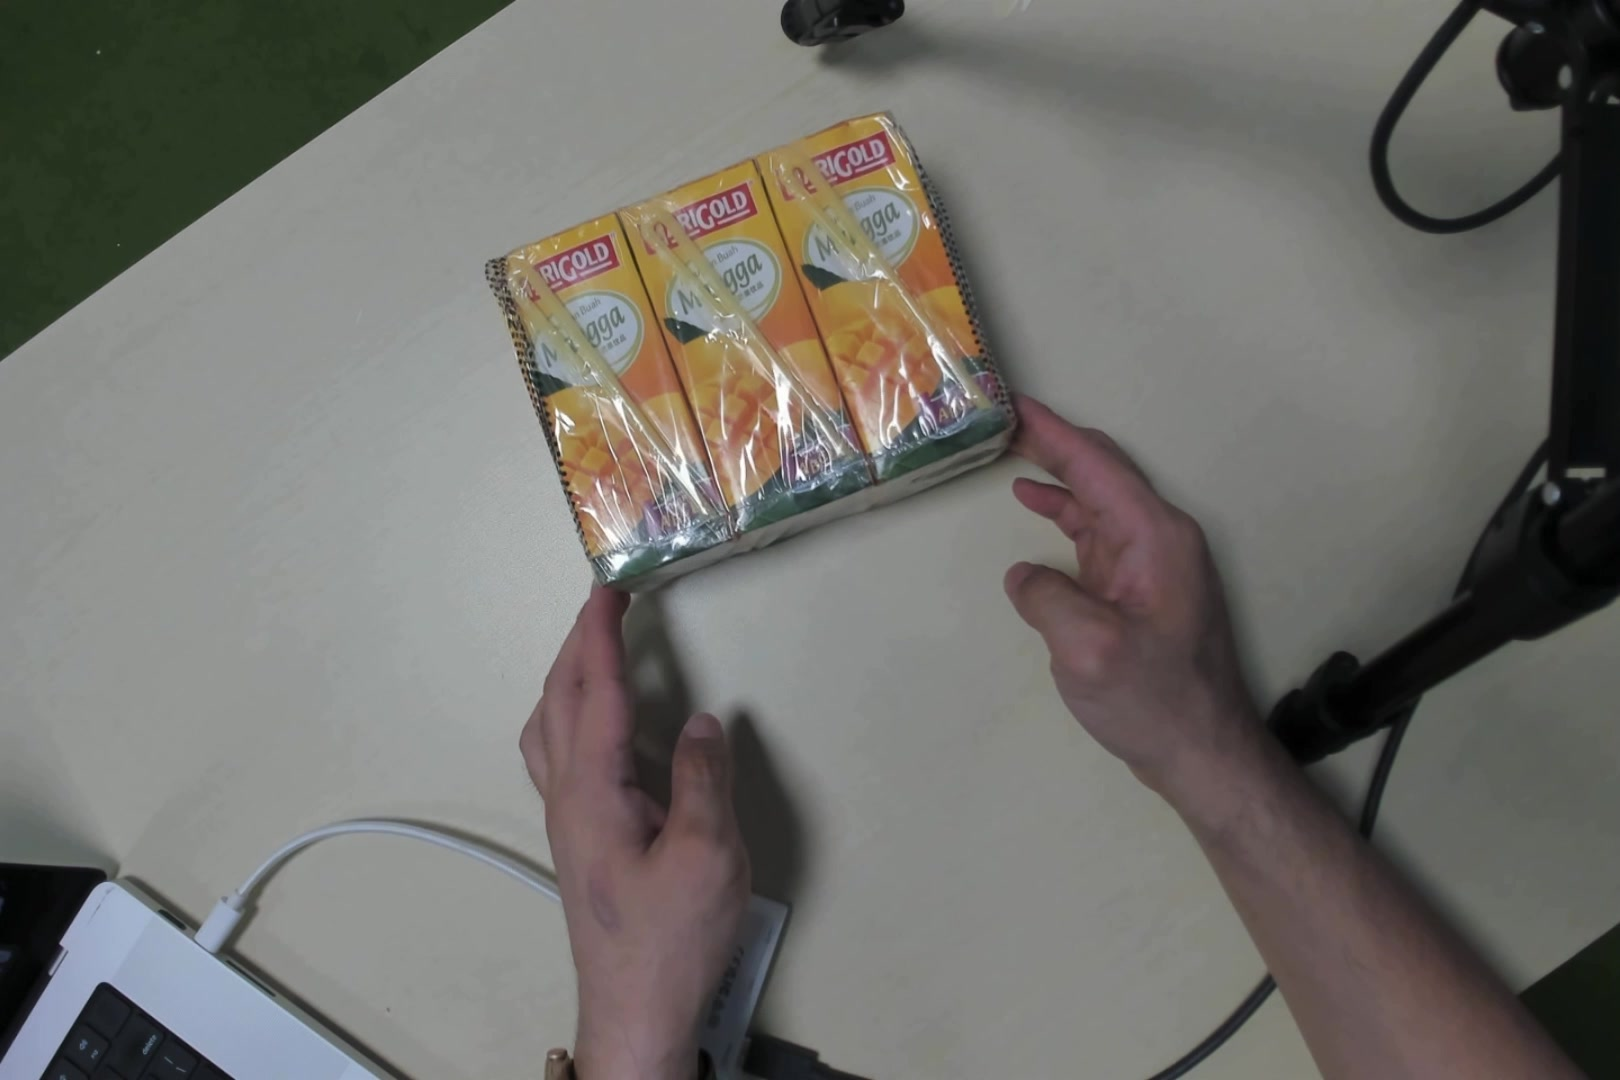FruitJuice_700-799g_Halal_NonHealthy: (517, 121, 990, 520)
